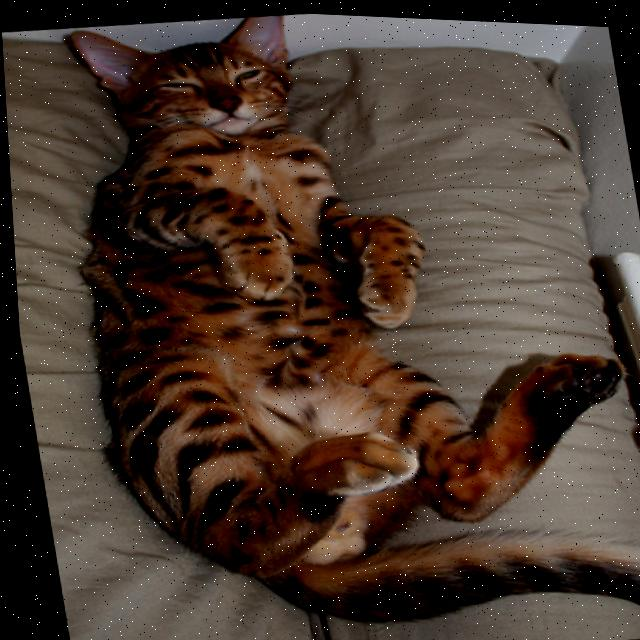Bengal: (20, 1, 640, 640)
